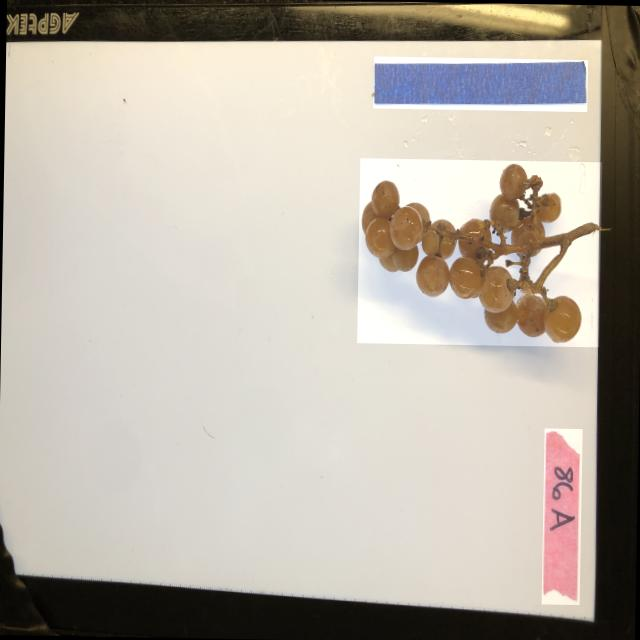grape_cluster: (356, 158, 600, 347)
index: (540, 428, 581, 604)
measure_label: (372, 56, 586, 111)
